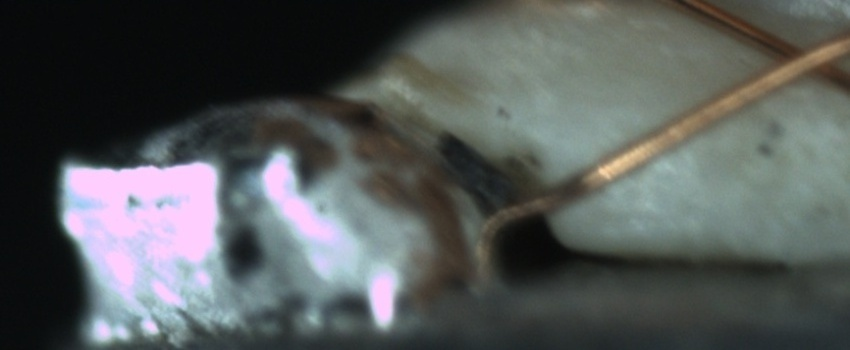CL: (747, 23, 845, 91)
